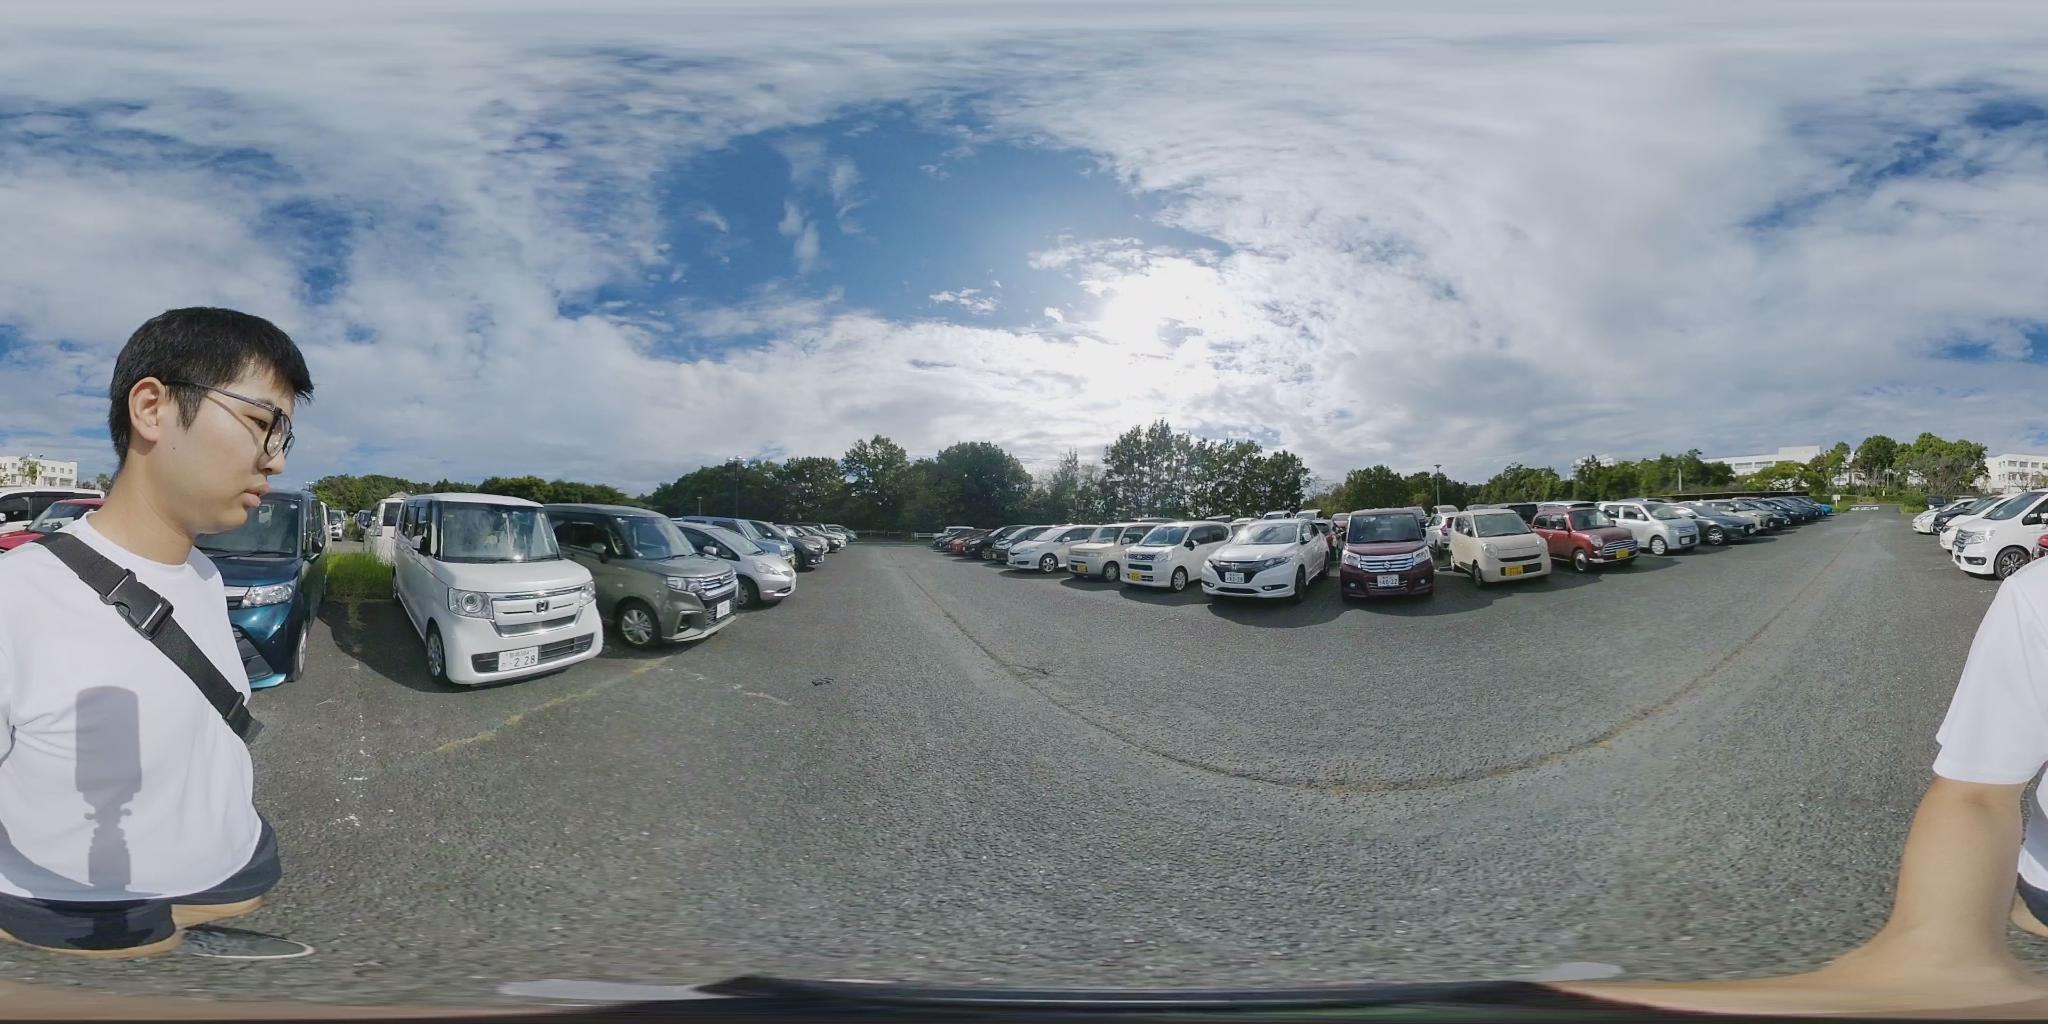car: (372, 495, 609, 687), (538, 509, 742, 653), (1202, 517, 1340, 600), (666, 519, 798, 603), (1523, 503, 1669, 564), (1940, 494, 2048, 573), (1105, 522, 1236, 588), (1345, 512, 1435, 600), (1019, 526, 1156, 576), (1454, 513, 1546, 586), (4, 488, 106, 552), (1603, 500, 1712, 550), (986, 526, 1080, 569), (1691, 502, 1772, 539), (771, 522, 842, 563), (1919, 495, 1989, 533), (943, 528, 1010, 558)
